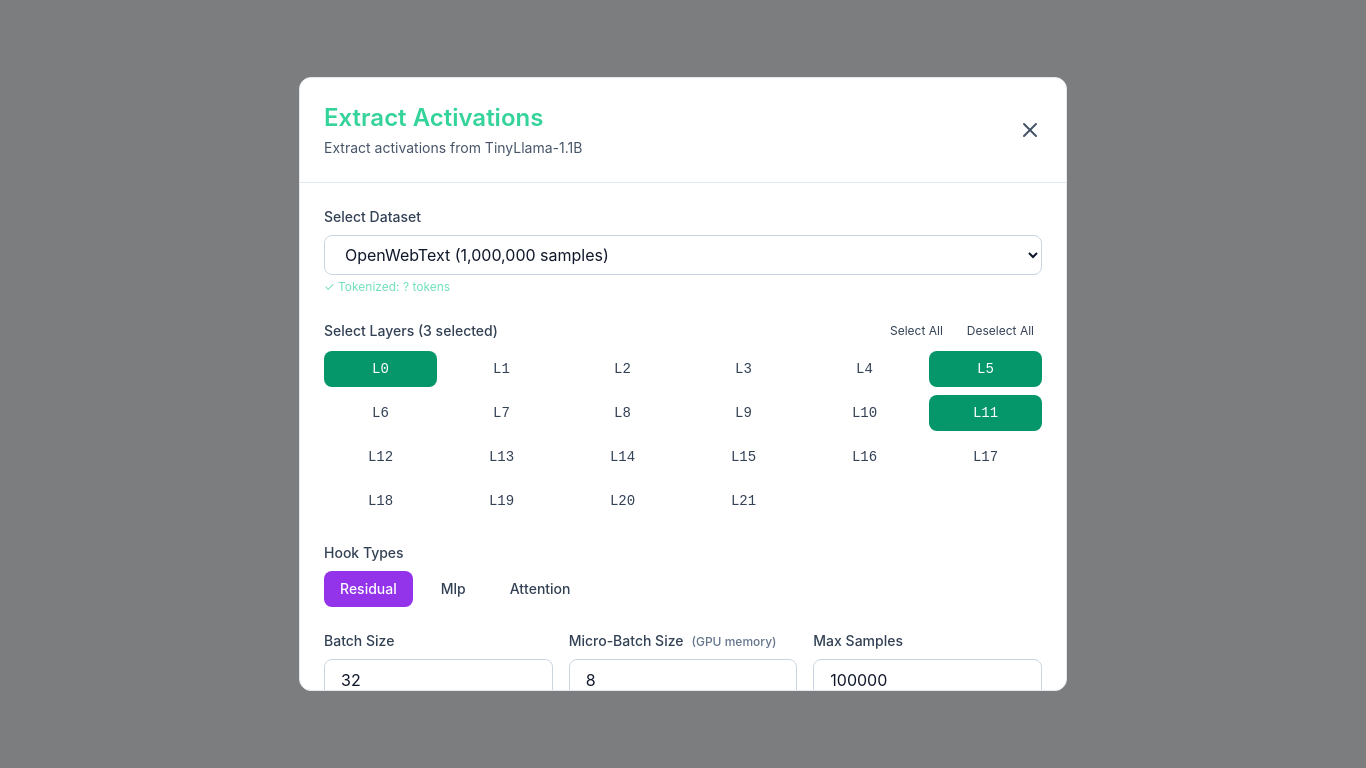
Scenario: ActivationExtractionConfig › Extraction Summary › should update summary when layers change
Click the button "Select All" at (916, 331), box [882,319,951,343]
(page scrolled)
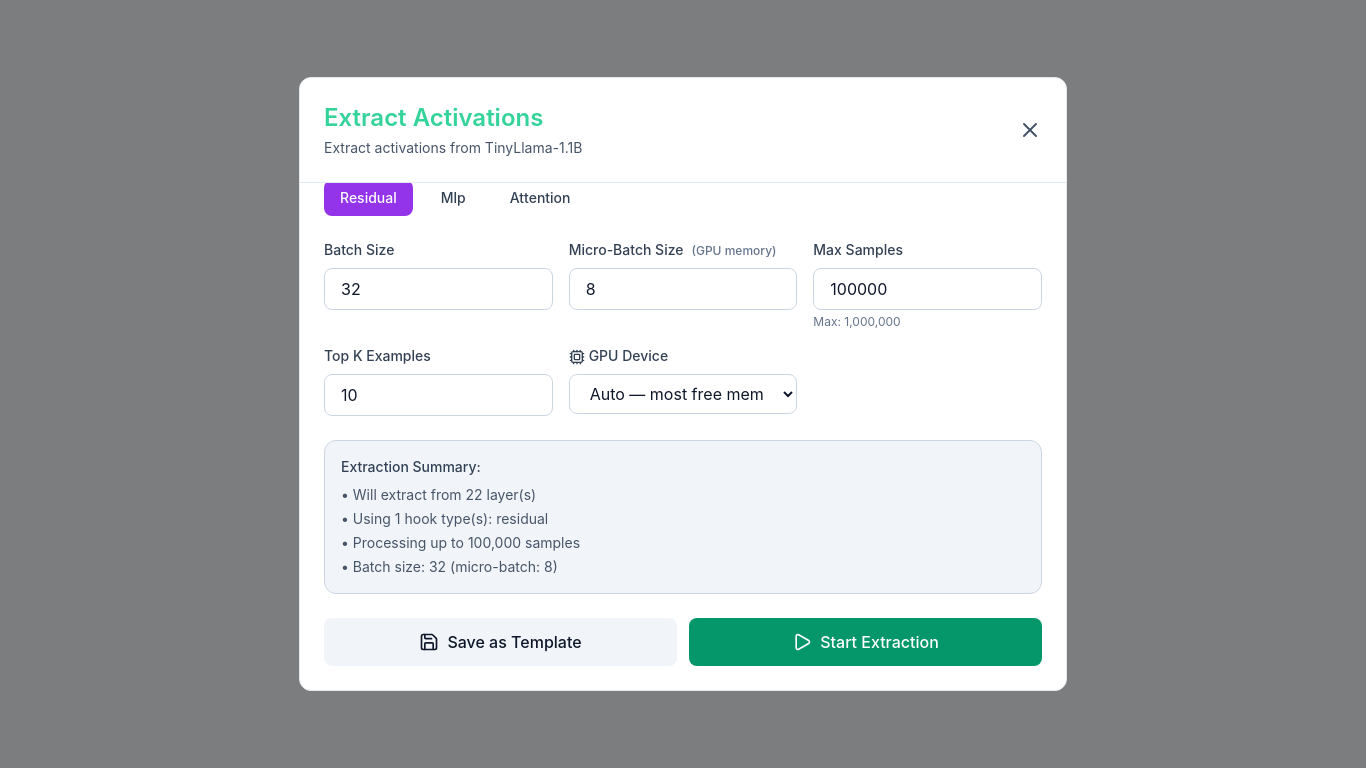
Check: the list item "• Will extract from 22 layer(s)" is shown, box [341,486,536,503]
